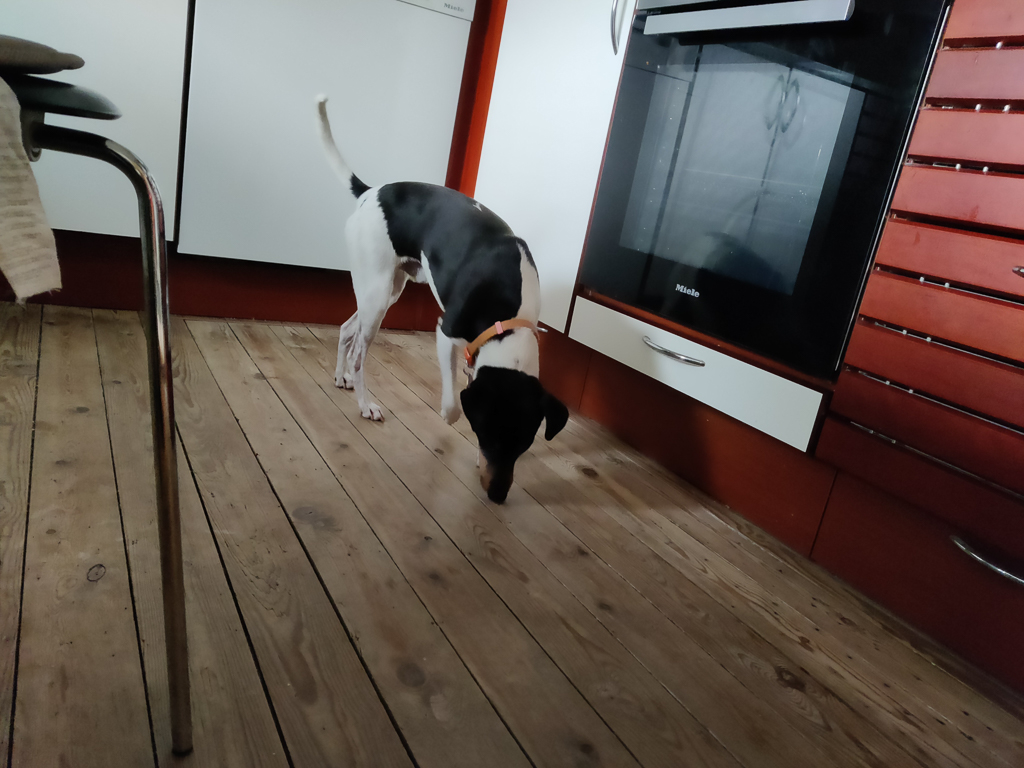Dog: (291, 67, 589, 522)
